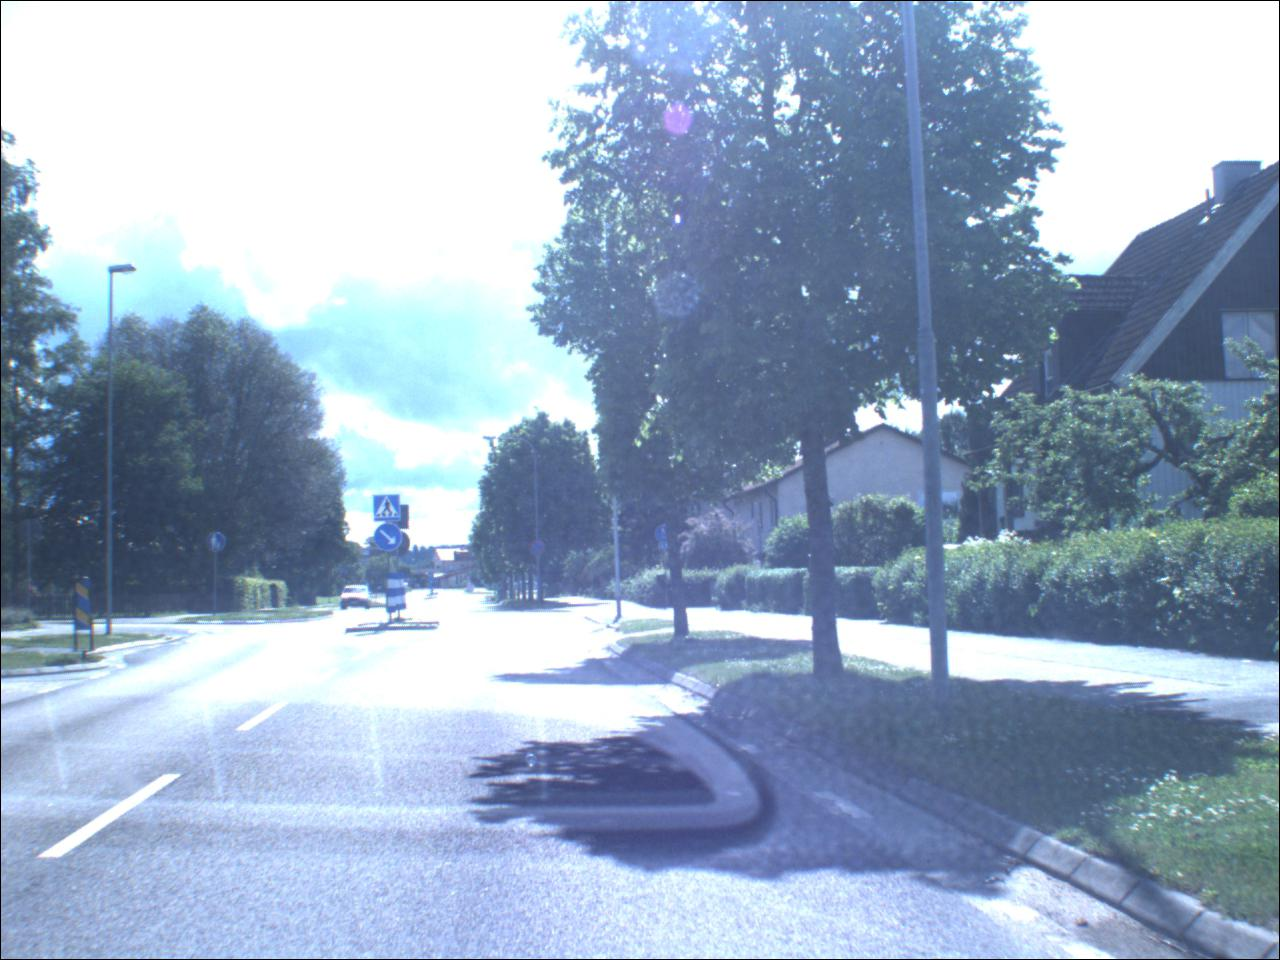NO_PARKING: (529, 541, 548, 559)
PASS_RIGHT_SIDE: (375, 525, 406, 554)
PEDESTRIAN_CROSSING: (375, 497, 403, 522)
